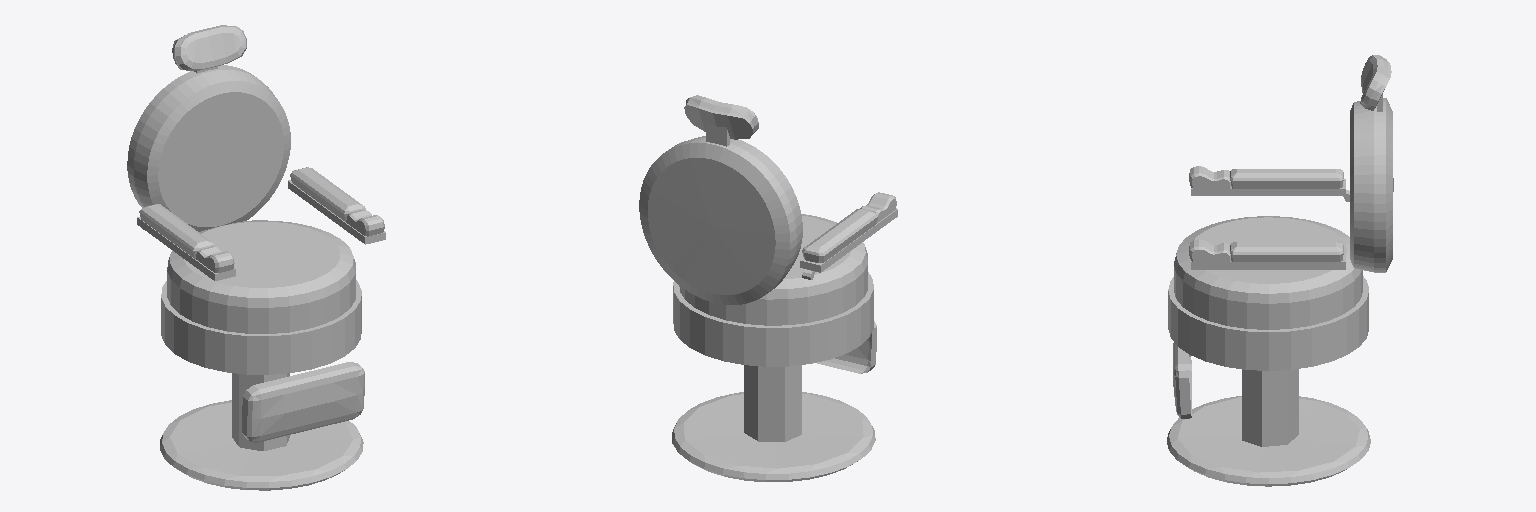
File: chair.obj
3 views of the same model, side by side, from view 1: azimuth 30°, elevation 25°; view 2: azimuth 150°, elevation 25°; view 3: azimuth 270°, elevation 25° (orthographic).
Parts seen in each view (by area): view 1: BarberShopChair_01; view 2: BarberShopChair_01; view 3: BarberShopChair_01.
Part boxes in pixels (x1,y1,x2,y2): BarberShopChair_01: (127, 25, 385, 490); BarberShopChair_01: (639, 95, 897, 481); BarberShopChair_01: (1167, 55, 1393, 486).
Bounding box in the file's own units: 0.7257 × 1.49 × 0.805.